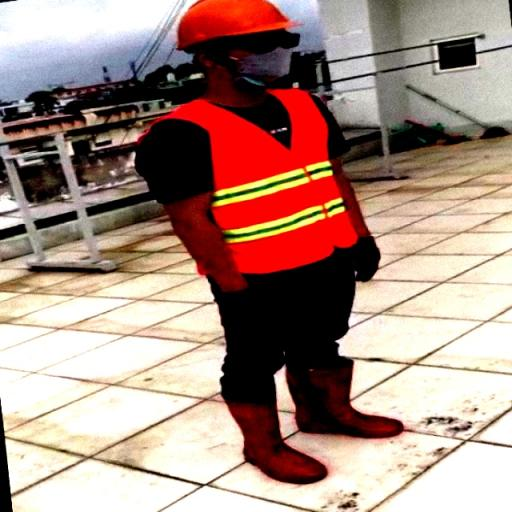Person: (146, 0, 433, 491)
boots: (282, 347, 410, 441), (220, 396, 330, 484)
gloves: (346, 238, 391, 275), (217, 284, 259, 317)
goggles: (208, 34, 306, 62)
helmet: (154, 0, 304, 46)
vest: (144, 88, 369, 273)
